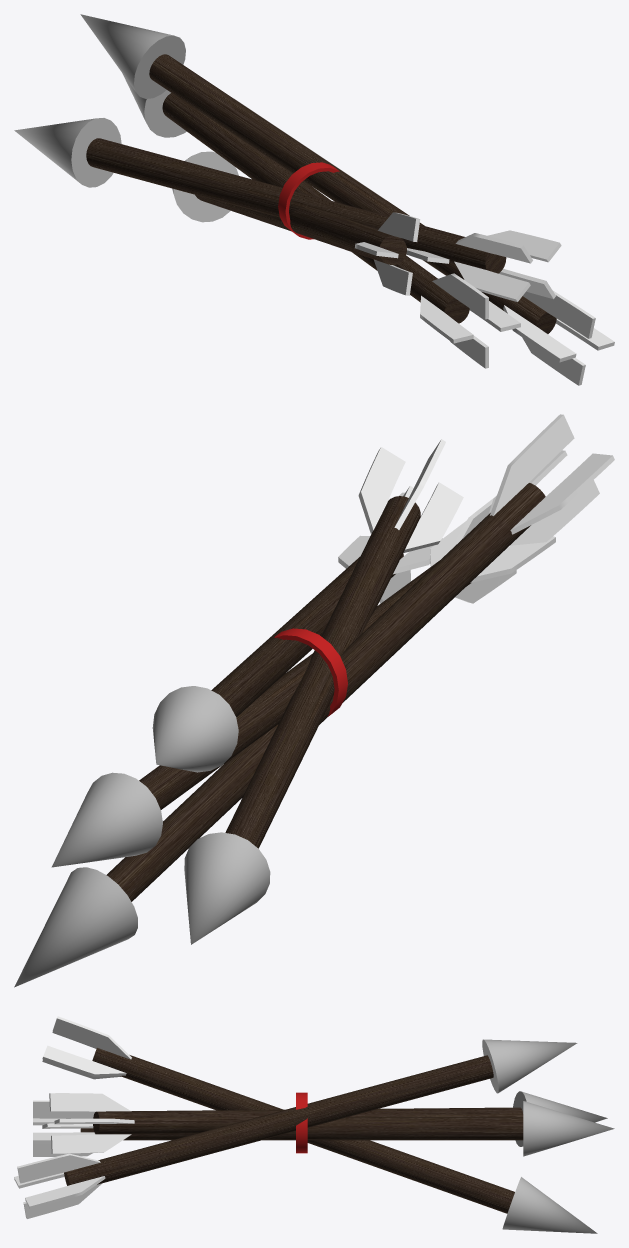
File: Pijlenbundel.fbx
3 views of the same model, one above another, from view 1: azimuth 30°, elevation 25°; view 2: azimuth 150°, elevation 25°; view 3: azimuth 270°, elevation 25° (orthographic). The views are drawn at different scales.
Visible parts, largest first — view 1: pasted__pCylinder2 (×4), pPipe1; view 2: pasted__pCylinder2 (×4), pPipe1; view 3: pasted__pCylinder2 (×4), pPipe1.
Boxes of the visible parts, box(x1,y1,x2,y2) form: pasted__pCylinder2 (×4): box(14, 14, 614, 385); pPipe1: box(278, 162, 339, 239); pasted__pCylinder2 (×4): box(14, 414, 614, 987); pPipe1: box(274, 628, 347, 716); pasted__pCylinder2 (×4): box(14, 1016, 614, 1233); pPipe1: box(296, 1092, 307, 1153).
Size of the model in its own units: 3.44 by 3.21 by 9.66.
